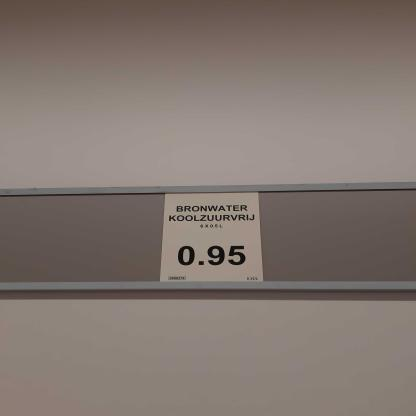prtg: (160, 193, 264, 283)
